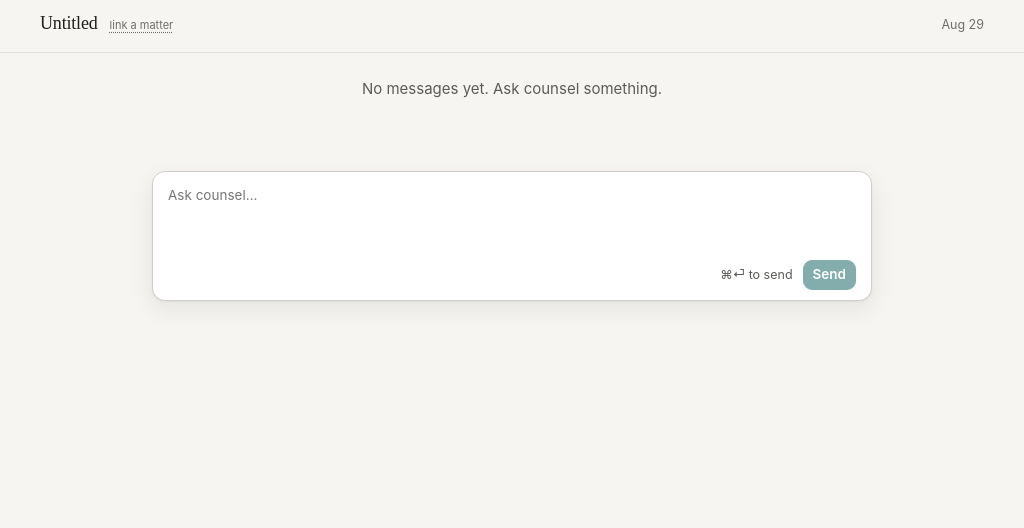
it: v2 Chat, when the end-of-stream refetch fails › keeps the answer, frees the composer, and offers Retry
Expected: the text "No messages yet. Ask counsel something." is shown, [362, 77, 662, 100]
Type "Check the Acme cap." into the text box named "Message" at coordinates (512, 215), box [168, 185, 856, 246]
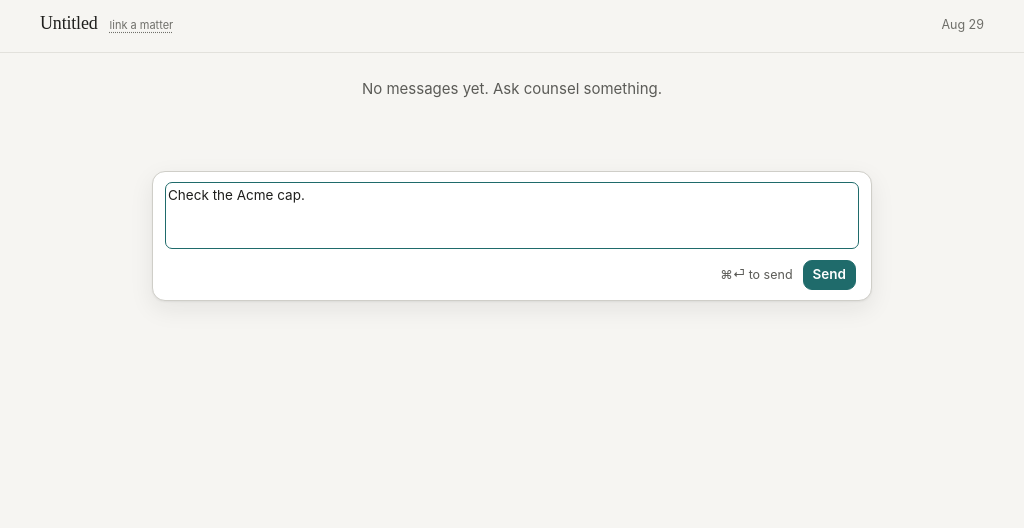
Click the button "Send" at coordinates (829, 275), box [802, 260, 856, 290]
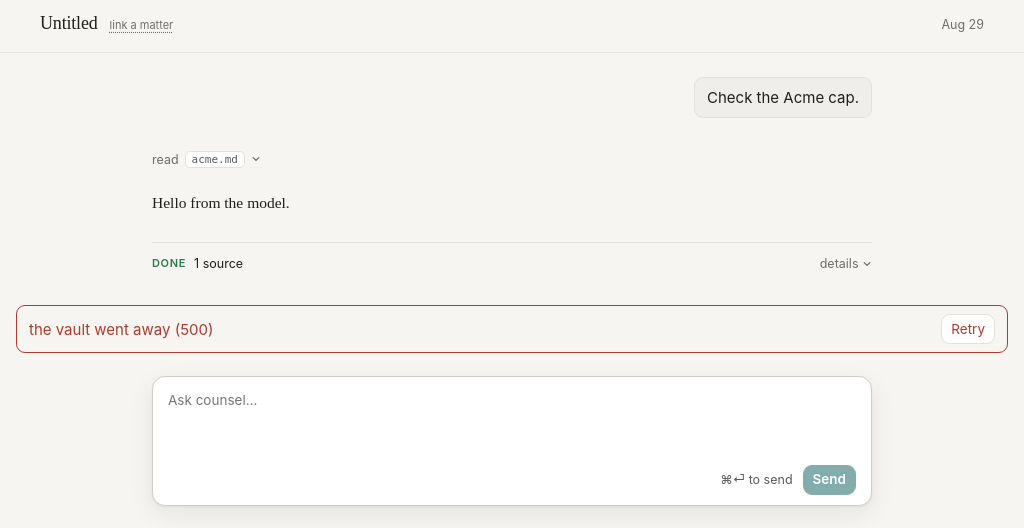
Expected: the text "Hello from the model." is shown, [152, 194, 290, 211]
Expected: the text "Check the Acme cap." is shown, [707, 86, 859, 109]
Expected: the text "the vault went away (500)" is shown, [29, 318, 213, 341]
Click the button "Retry" at coordinates (968, 329), box [941, 314, 995, 344]
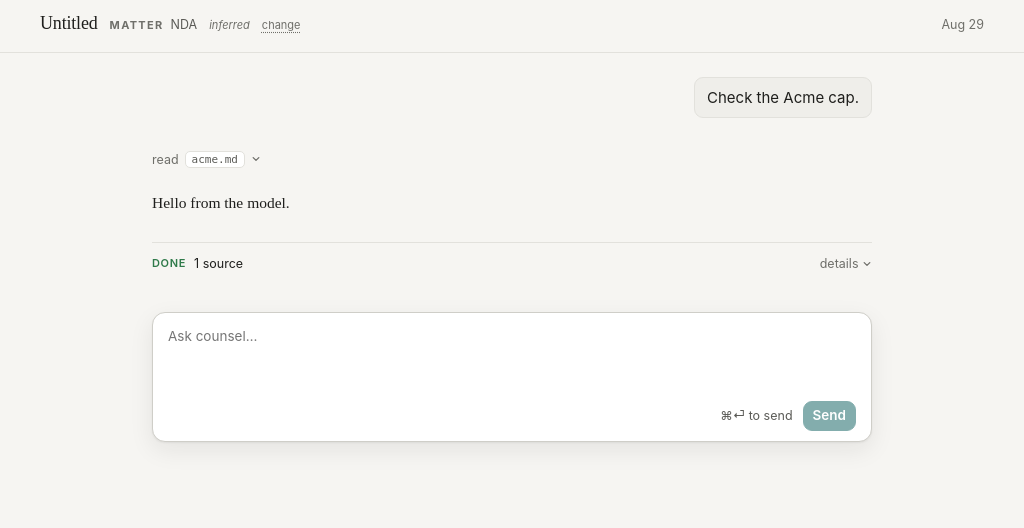
Expected: the text "Hello from the model." is shown once, [152, 194, 290, 211]
Expected: the text "Check the Acme cap." is shown once, [707, 86, 859, 109]
Expected: the text "the vault went away" is gone
